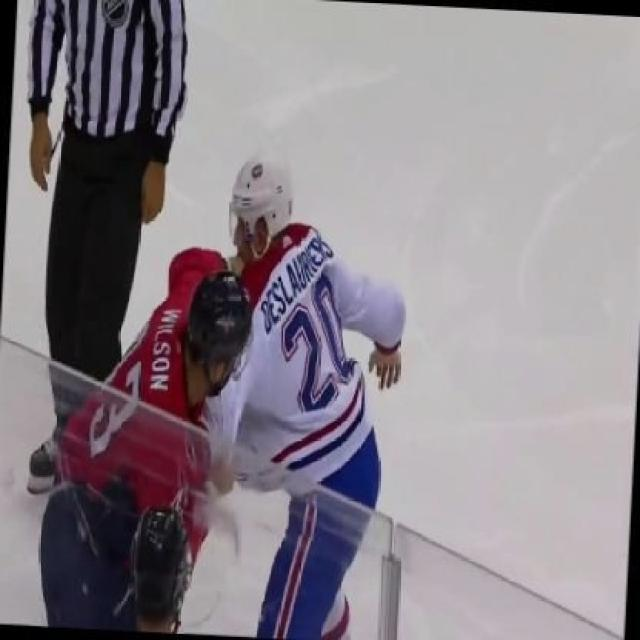fight: (36, 151, 409, 637)
non-fight: (27, 1, 189, 466)
